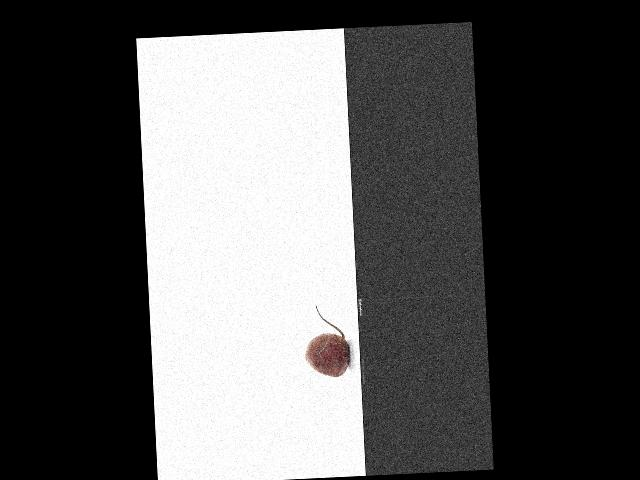beet: (303, 304, 350, 378)
